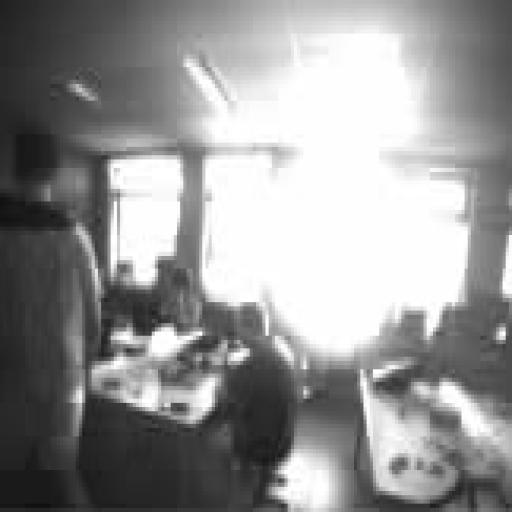human: (0, 131, 101, 507), (222, 303, 300, 499), (149, 265, 202, 356)
